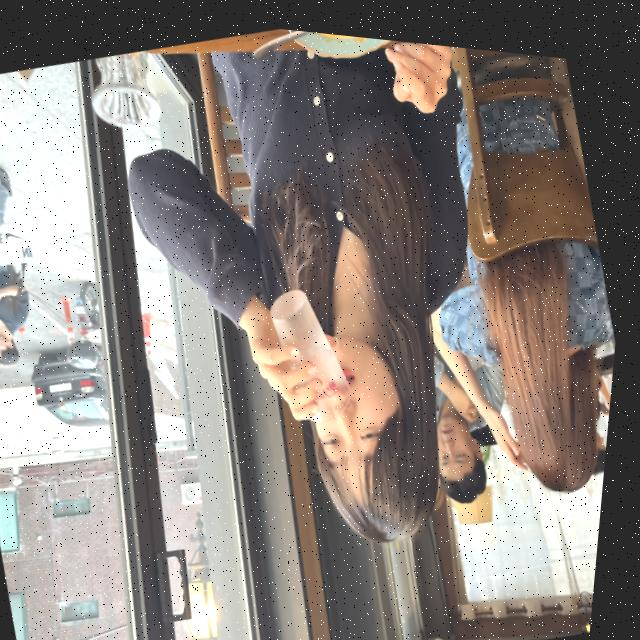eating-person: (64, 8, 593, 618)
